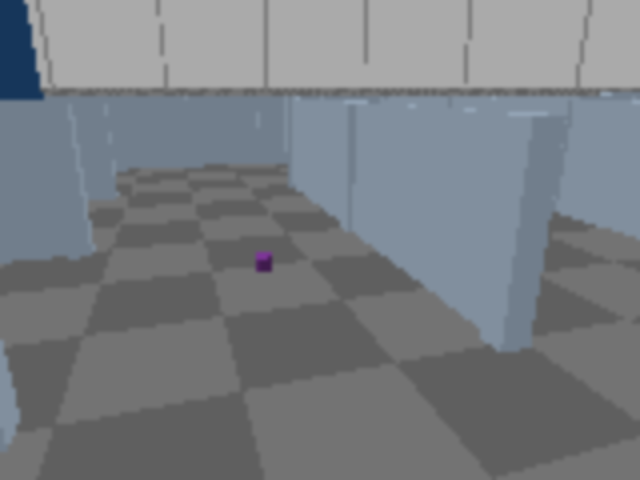person: (0, 0, 57, 197)
puck: (256, 253, 271, 272)
